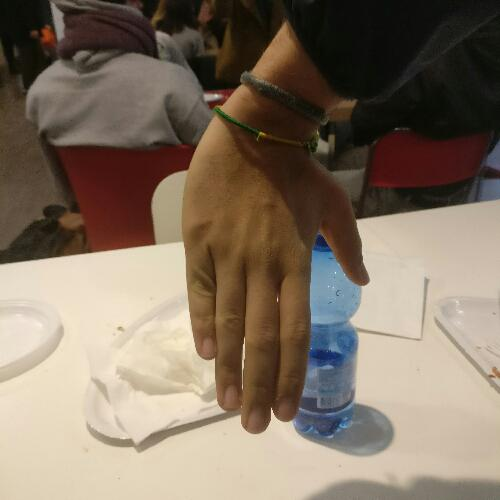paper: (173, 89, 378, 438)
